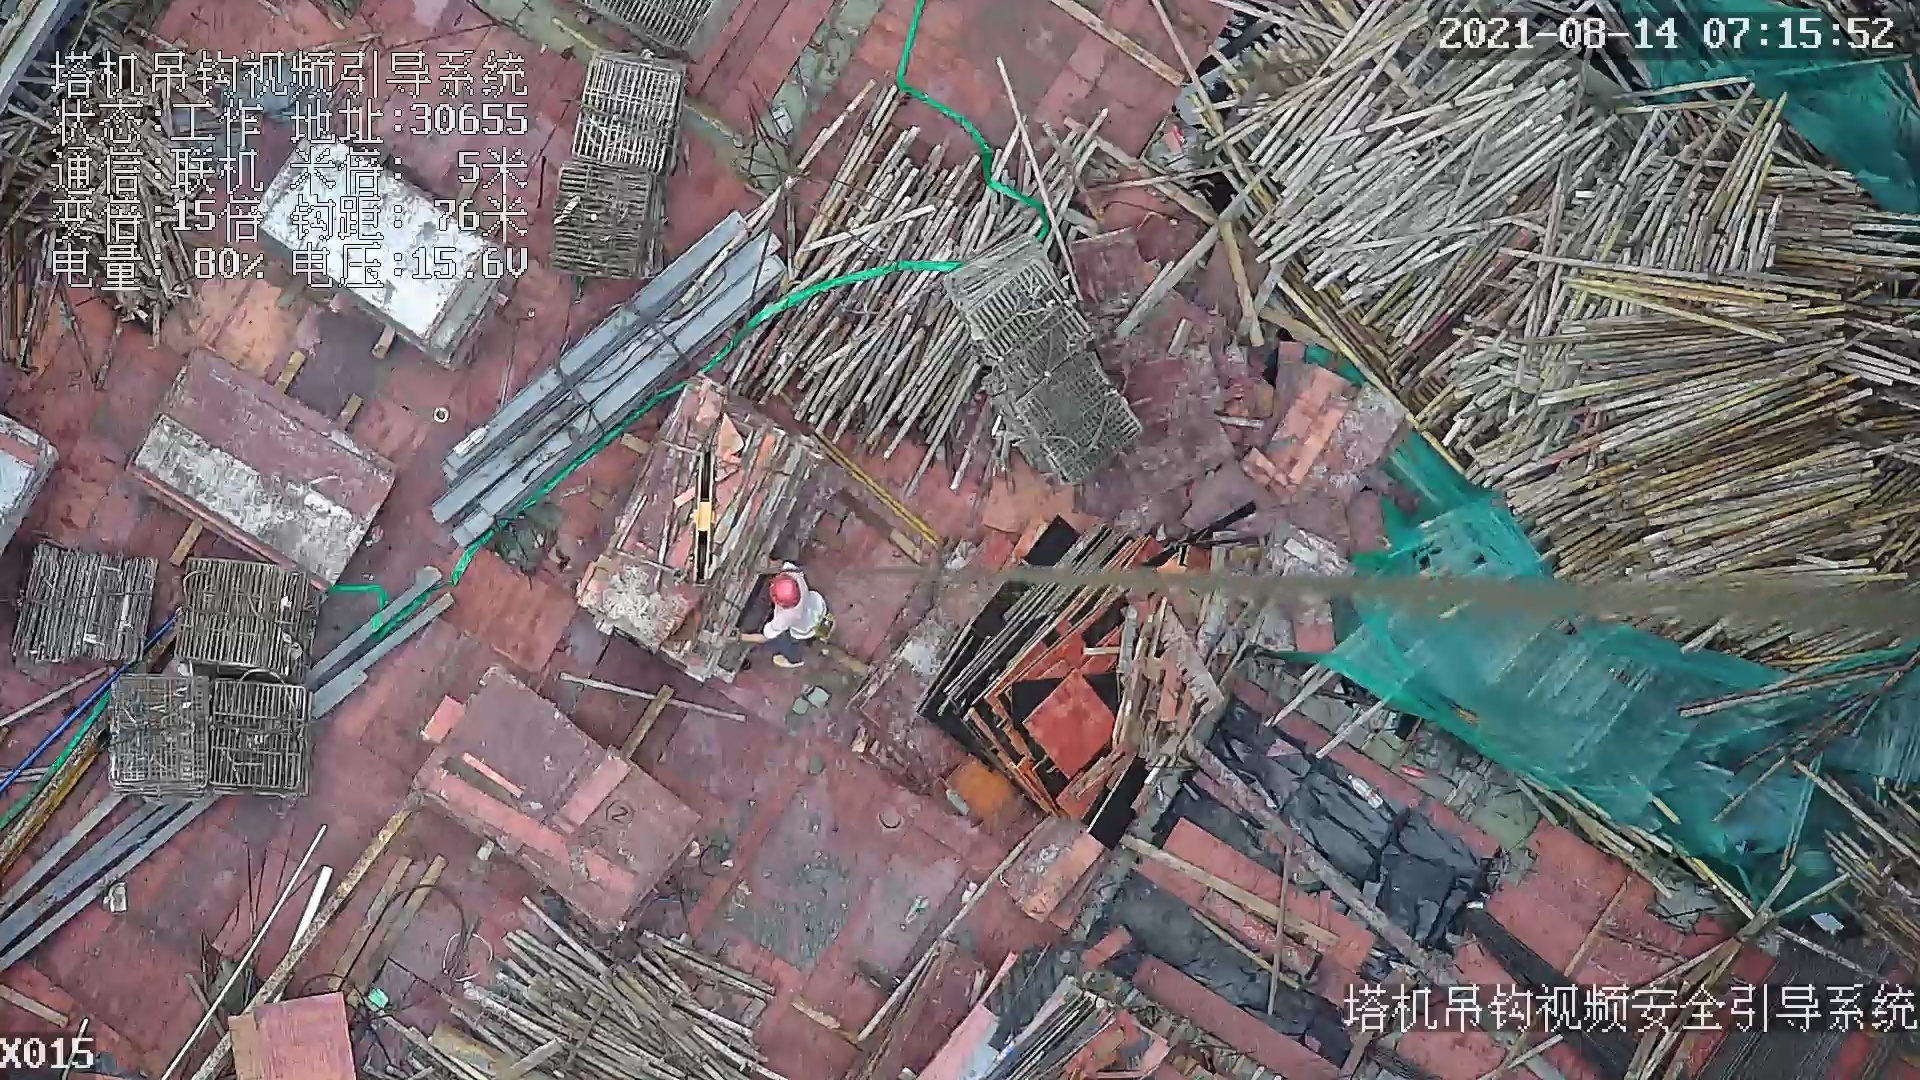helmet: (769, 571, 808, 606)
hook: (688, 447, 718, 587)
person: (754, 563, 833, 674)
